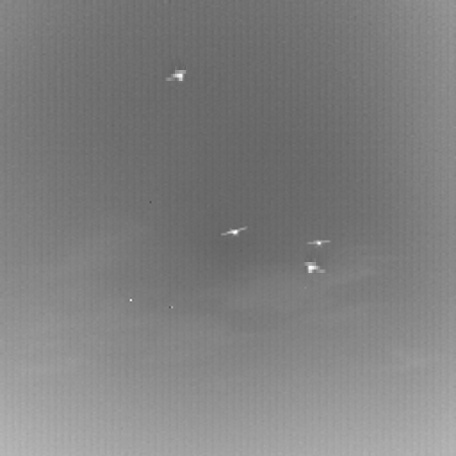plane: (159, 55, 189, 85), (301, 247, 331, 277), (214, 222, 244, 236), (304, 235, 327, 245)
